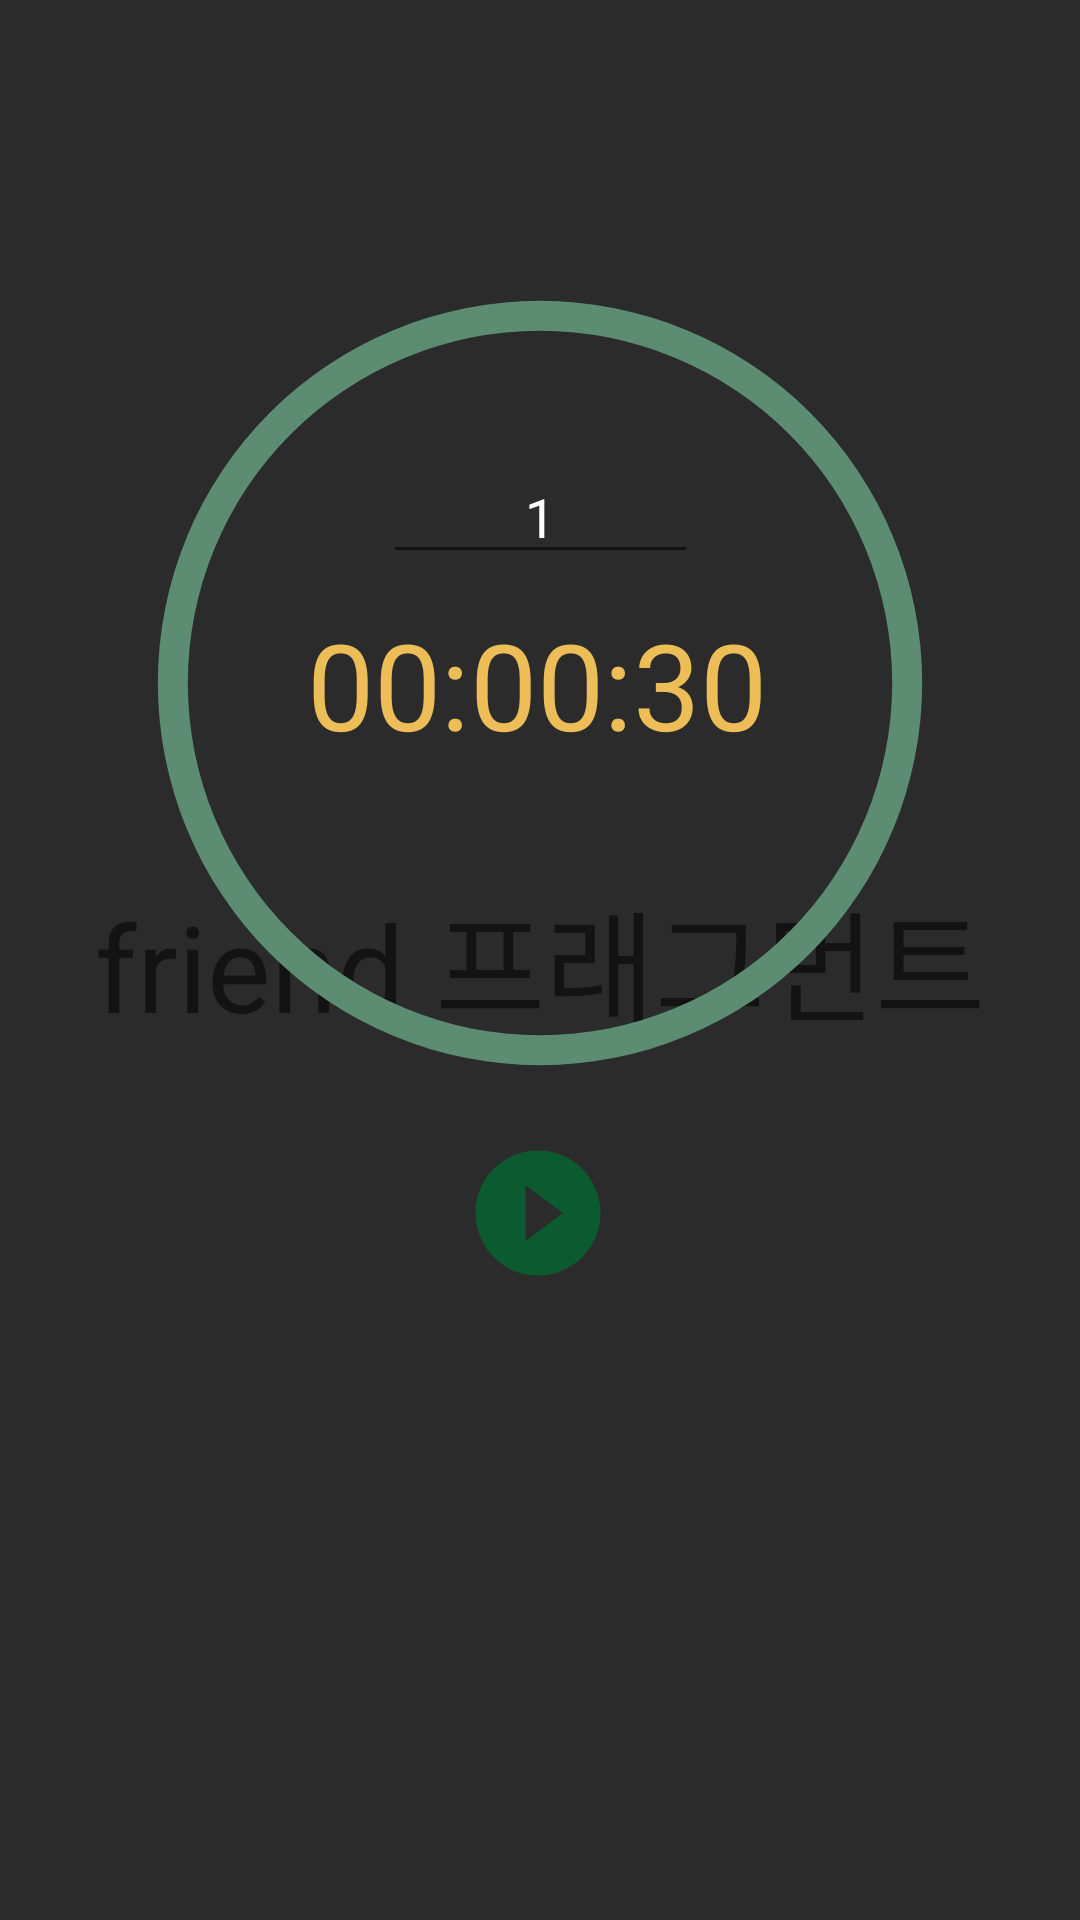

Point at icon controls on the screen. Image size 1080 x 1920, points as (x,y).
play circle: (538,1213)
